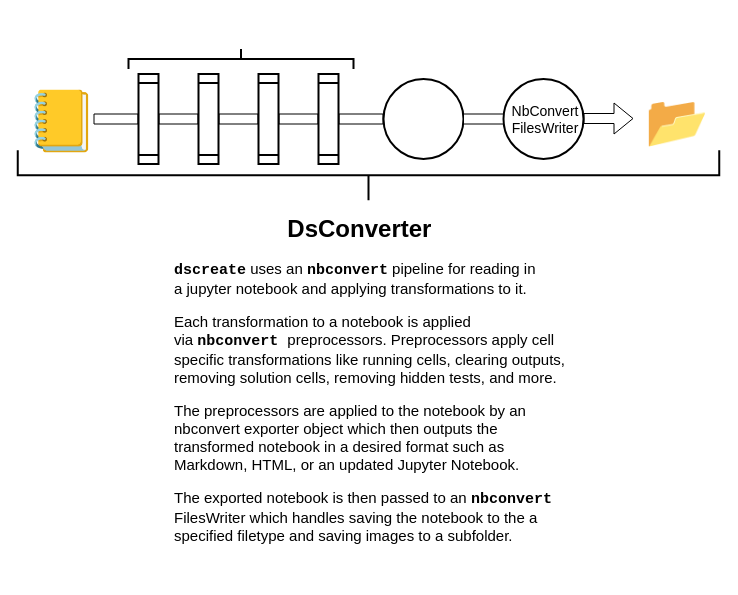
Some shapes in this 738 by 595 pixel diagram are drawn without their labels. Each missing label, with the box of its shape:
NbConvert Exporter: (382, 78, 464, 160)
Nbconvert Preprocessors: (127, 48, 354, 70)
